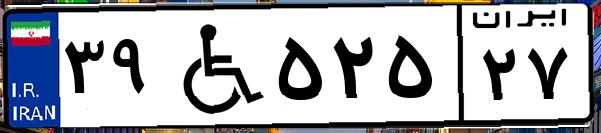2: (330, 28, 385, 110), (475, 38, 525, 113)
3: (57, 26, 110, 100)
5: (270, 28, 330, 110), (385, 28, 445, 110)
7: (525, 38, 570, 115)
9: (110, 28, 158, 98)
ژ (معلولین و جانبازان): (158, 12, 270, 120)
